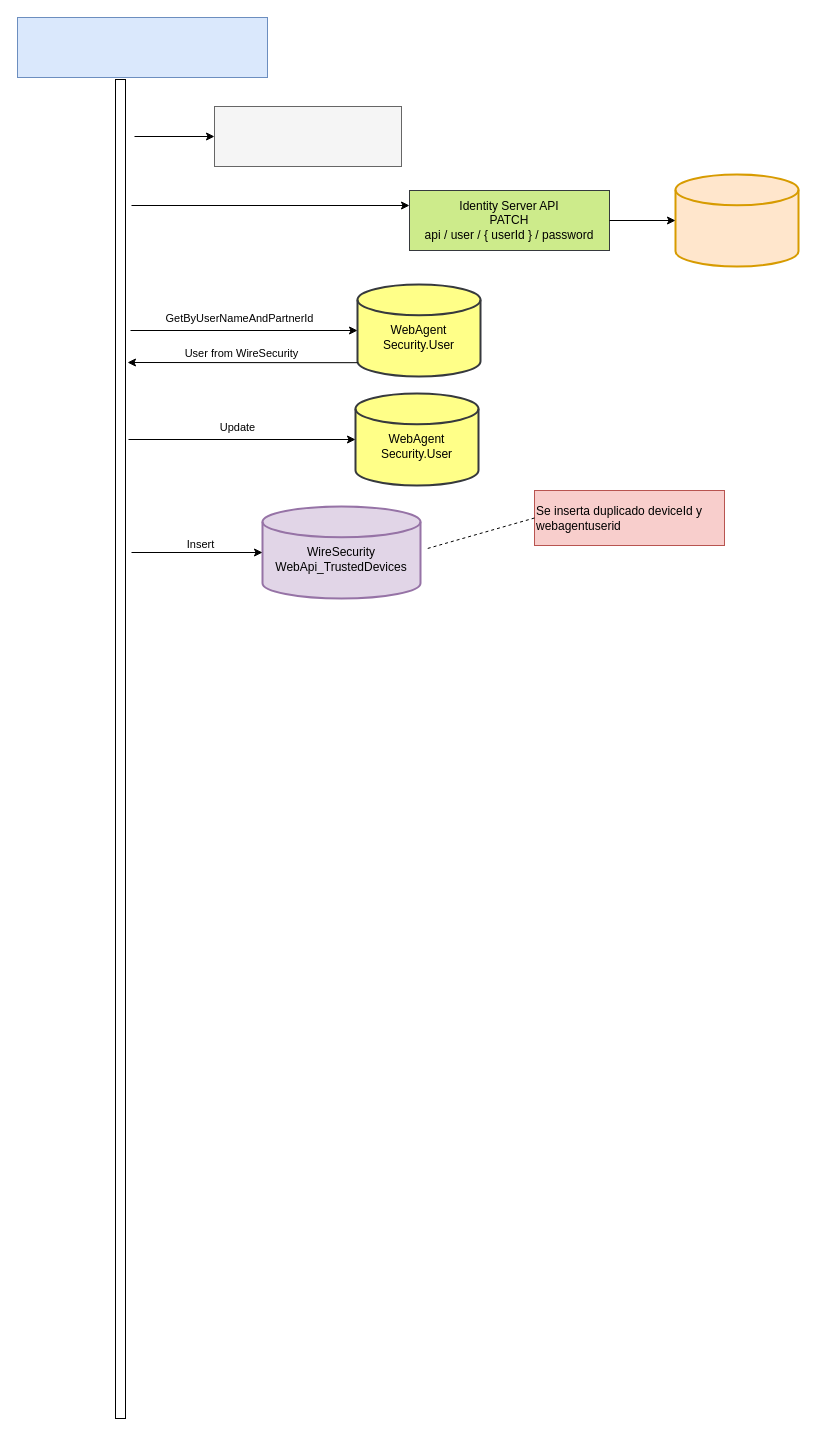
Image size: 817x1436. Some labels were removed from this diagram. Here are the shapes that lost their labels. From the top down, the centre of each, then its label:
point (142, 47): Handler ResetPasswordCommandHandler
point (308, 136): Check Terms And Conditions
point (736, 220): Online Users
